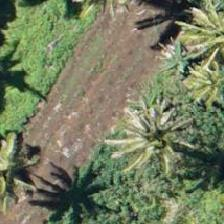coconut_tree: (116, 92, 206, 182), (0, 119, 53, 209)
